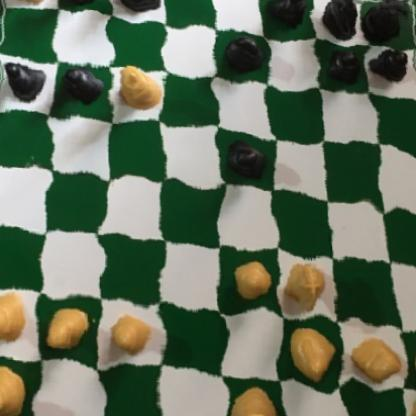black-bishop: (264, 0, 311, 29), (117, 0, 162, 15)
black-king: (56, 0, 109, 10)
black-knight: (319, 0, 366, 43)
black-pawn: (0, 57, 50, 108), (221, 138, 269, 185), (56, 63, 102, 111), (320, 43, 364, 91), (370, 43, 414, 88), (222, 35, 266, 79)
black-rook: (359, 0, 415, 49)
white-bishop: (2, 0, 56, 9)
white-king: (226, 379, 283, 416)
white-knight: (280, 249, 332, 320)
white-pawn: (220, 250, 275, 315), (40, 300, 98, 359), (280, 325, 336, 379), (109, 305, 156, 363), (0, 283, 37, 351), (345, 335, 396, 380), (408, 334, 416, 396)
white-queen: (117, 63, 161, 121)
white-rook: (0, 359, 29, 416), (404, 387, 416, 416)
